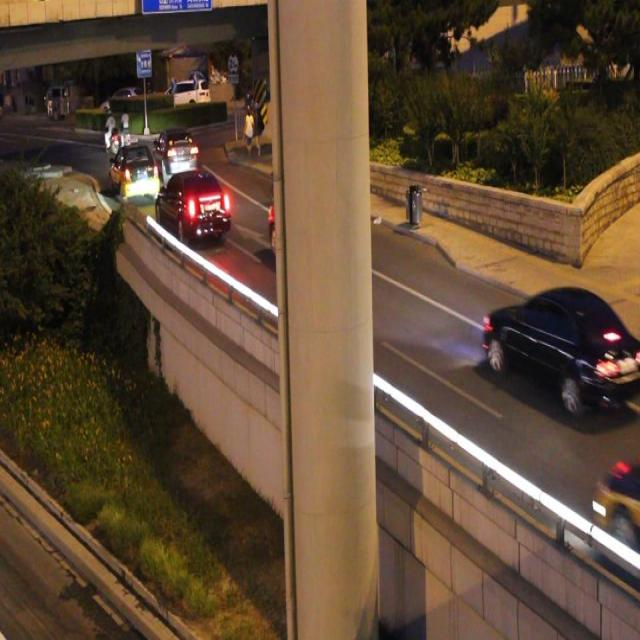car: (482, 281, 640, 414), (268, 175, 354, 269), (588, 448, 640, 566), (154, 168, 231, 242), (107, 138, 159, 201), (153, 125, 198, 181)
